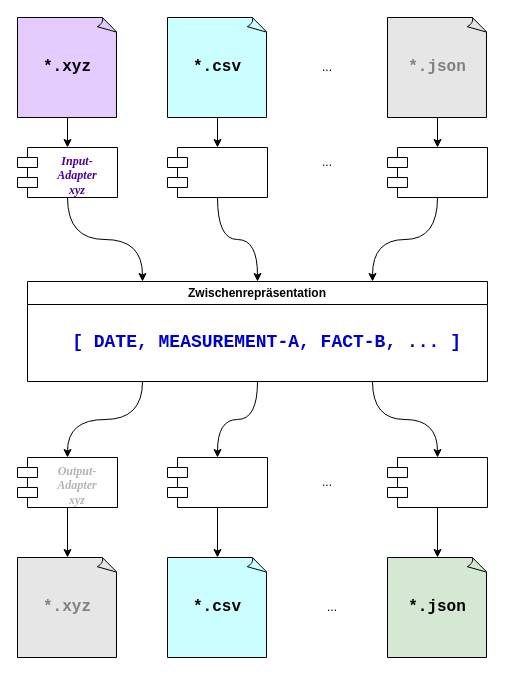
Some shapes in this 505 by 675 pixel diagram are drawn without their labels. The centre of each missing label's shape, as x and y in pixels:
"Input- Adapter csv" goes at [217,172].
"Input- Adapter json" goes at [437,172].
"Outpuit- Adapter csv" goes at [217,482].
"Output- Adapter json" goes at [437,482].
